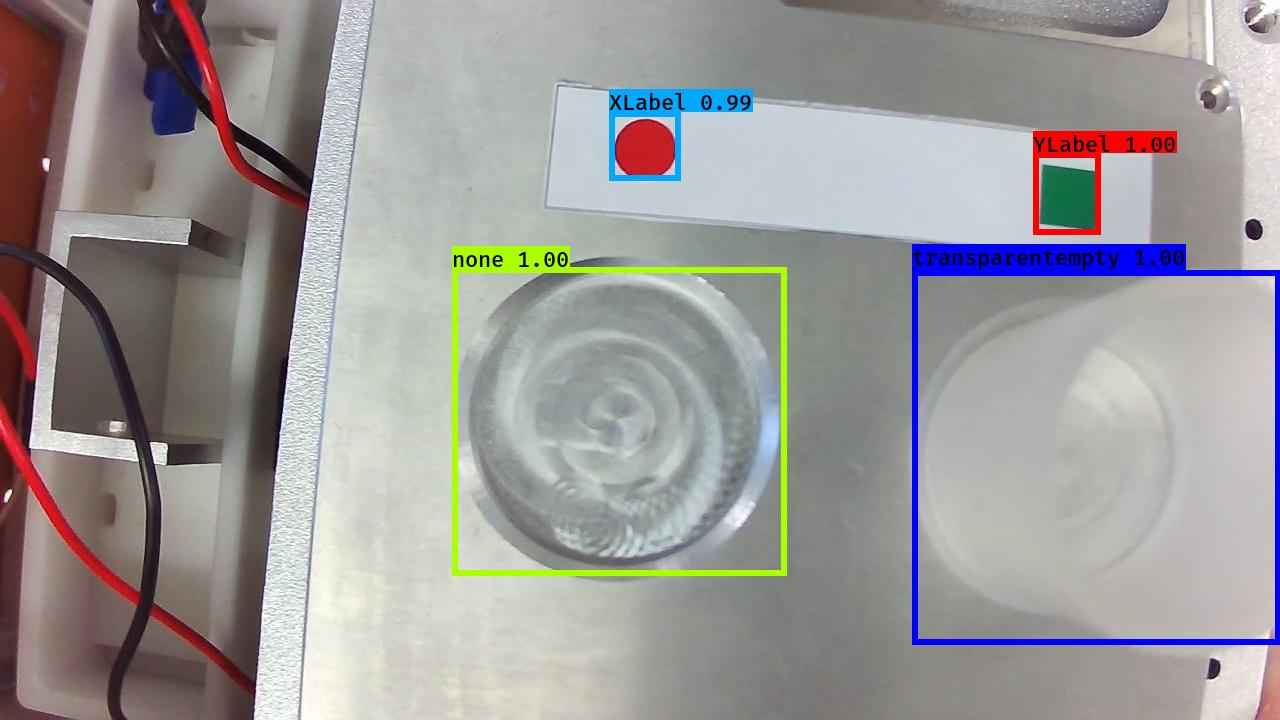XLabel: (611, 113, 679, 182)
YLabel: (1036, 161, 1100, 233)
none: (441, 250, 786, 587)
transparentempty: (906, 260, 1280, 671)
